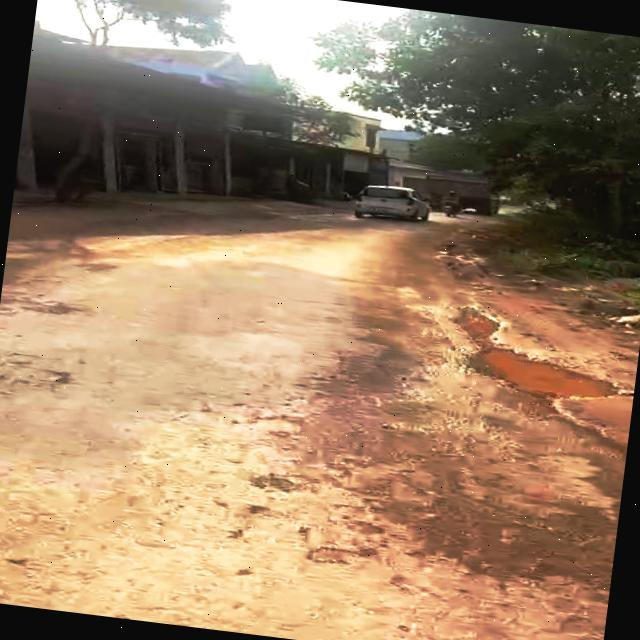pothole: (443, 305, 630, 410)
